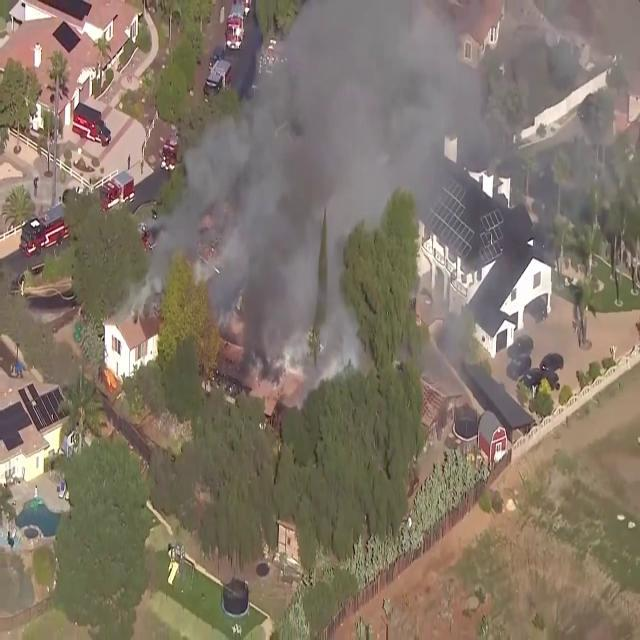Smoke: (151, 1, 501, 344)
